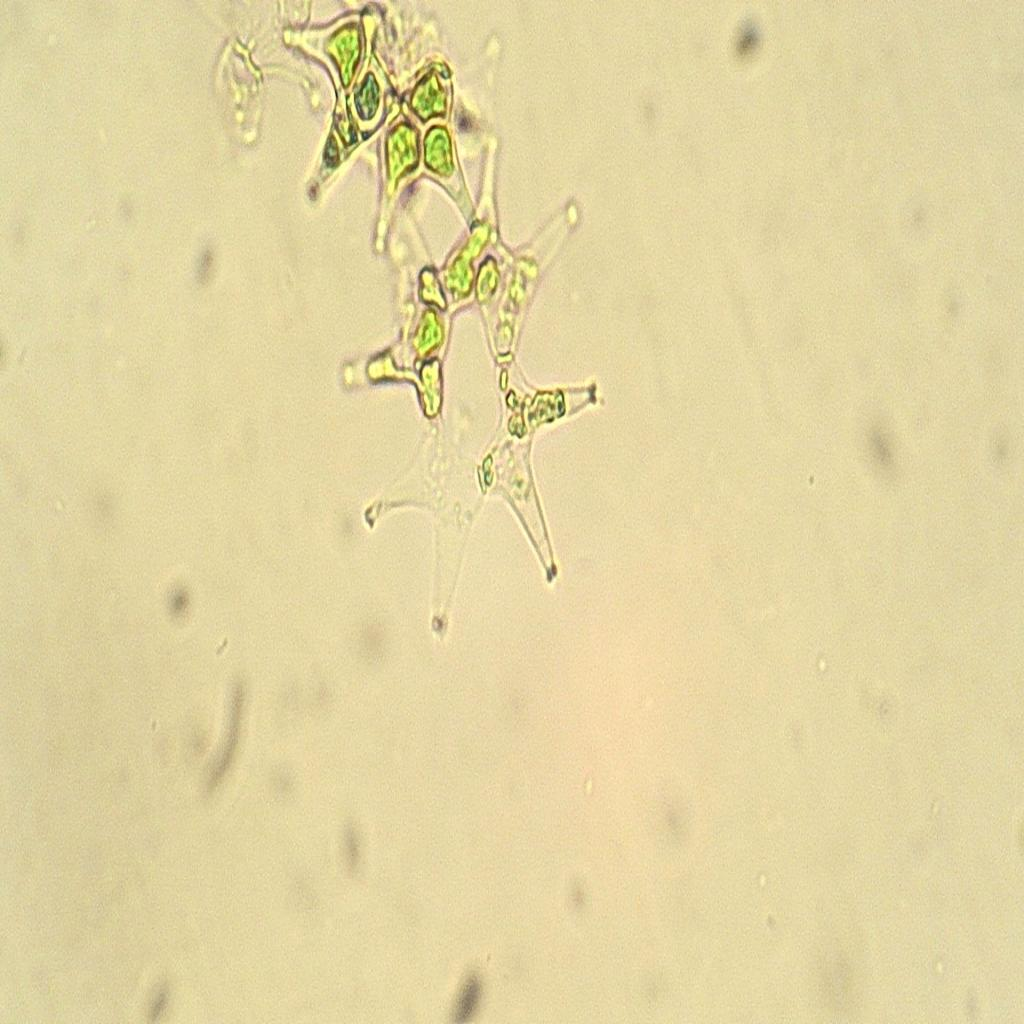Pediastrum_75TH: (322, 114, 619, 661)
